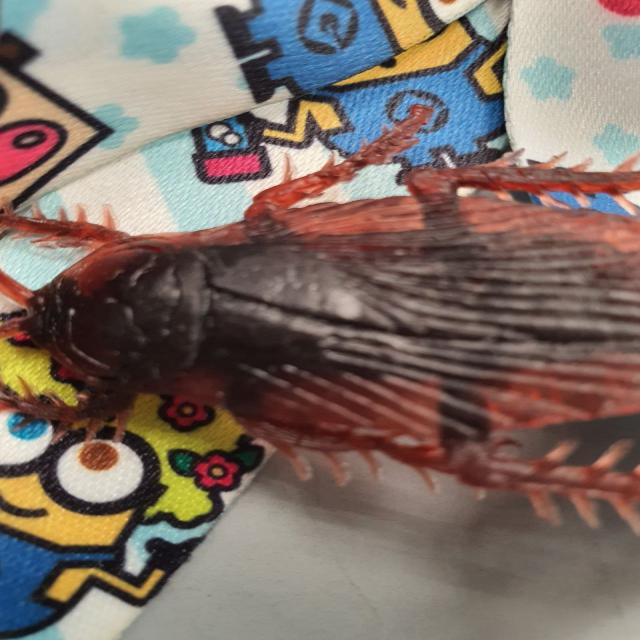Cockroach: (0, 125, 640, 537)
